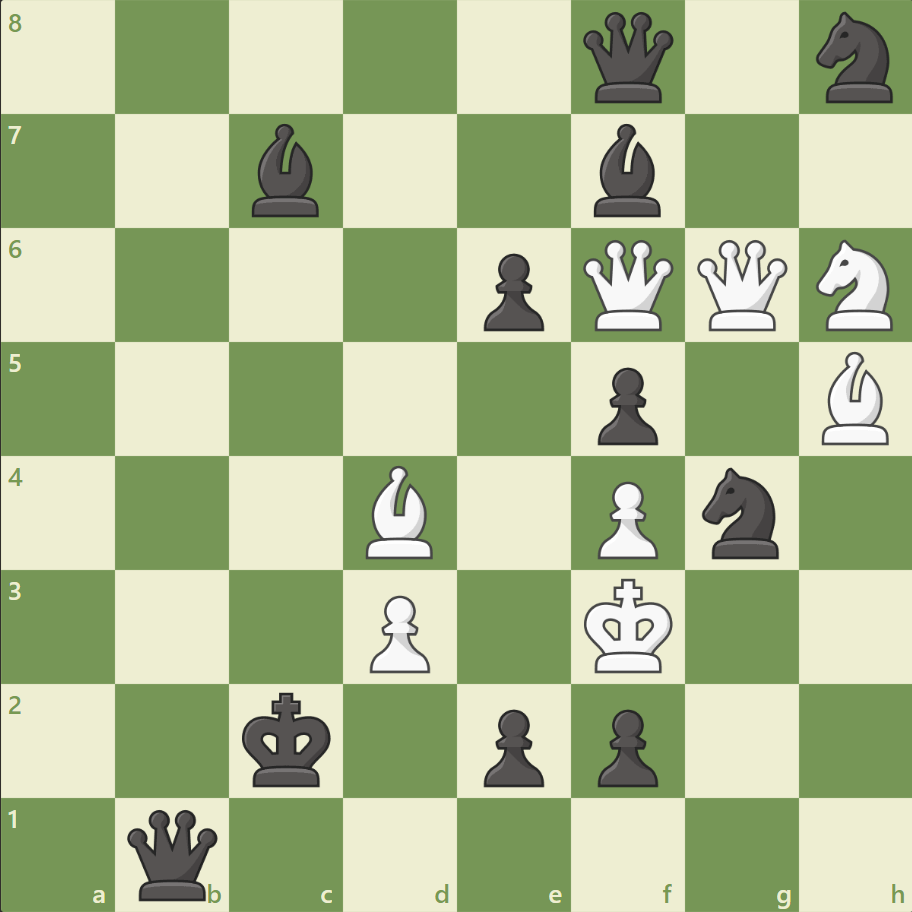B: (358, 460, 442, 563), (812, 347, 896, 449)
K: (579, 571, 679, 679)
N: (806, 234, 903, 337)
P: (588, 473, 662, 564), (361, 586, 435, 677)
Q: (578, 236, 677, 335), (691, 236, 790, 335)
b: (244, 120, 328, 222), (585, 120, 669, 222)
k: (238, 685, 338, 793)
n: (806, 7, 903, 110), (692, 461, 789, 564)
p: (474, 246, 549, 337), (474, 700, 549, 791), (588, 359, 662, 450), (588, 700, 662, 791)
q: (578, 9, 677, 108), (124, 804, 223, 903)
